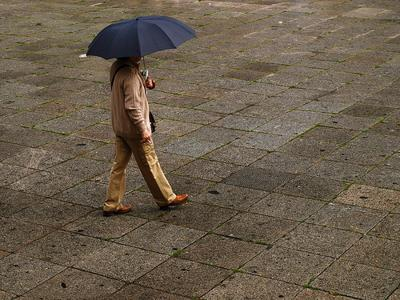person: (103, 55, 190, 218)
